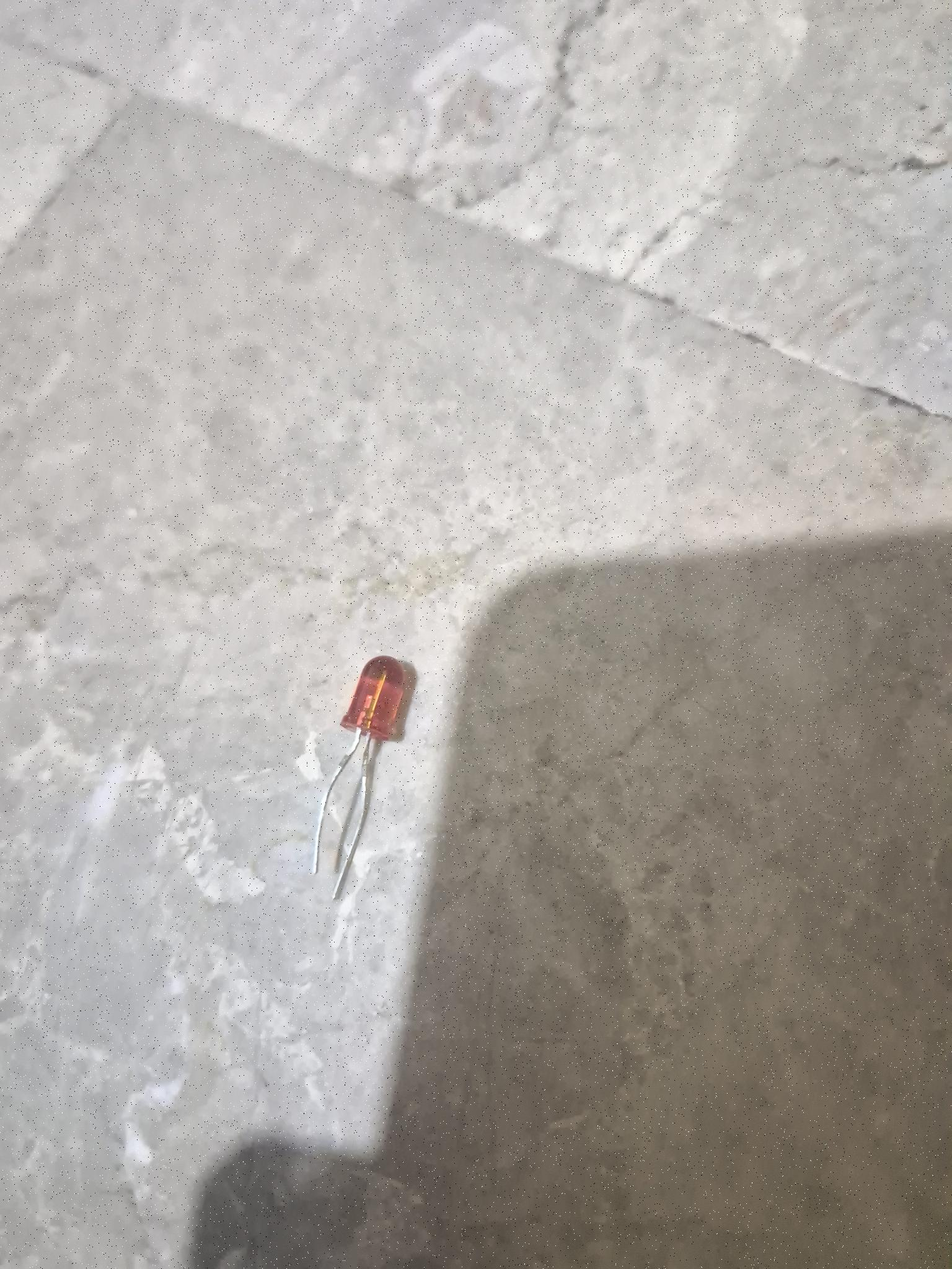led-diode: (334, 656, 405, 899)
